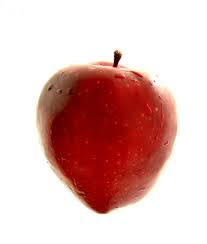apple: (34, 49, 180, 218)
